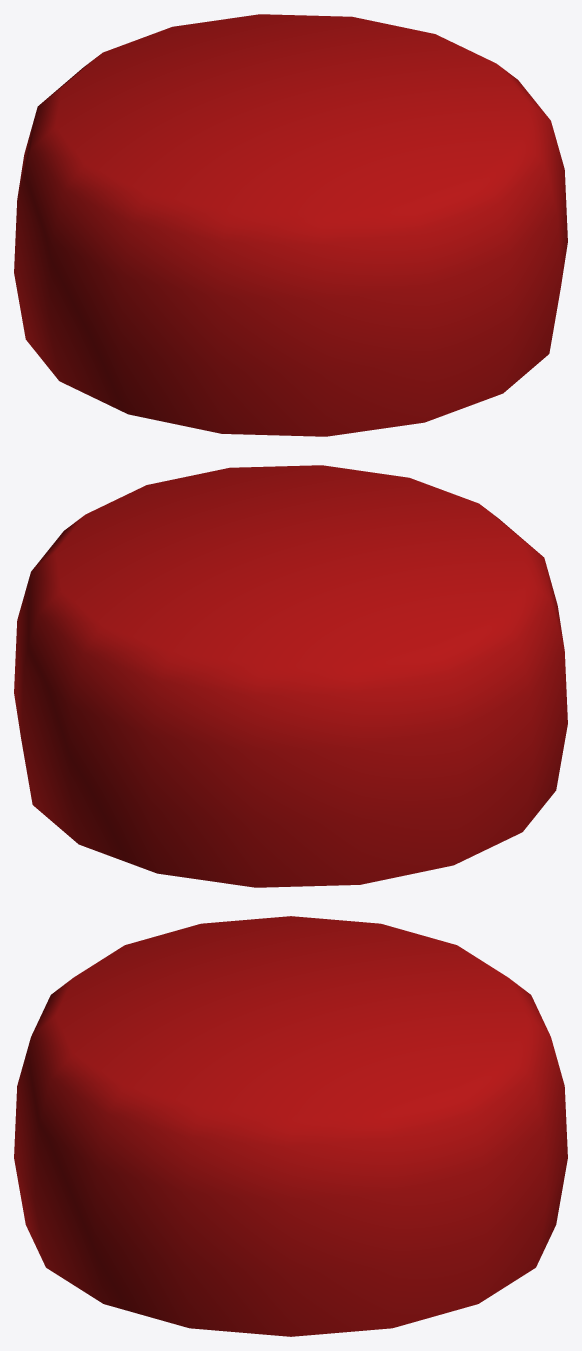
File: Tapa_04.fbx
3 views of the same model, one above another, from view 1: azimuth 30°, elevation 25°; view 2: azimuth 150°, elevation 25°; view 3: azimuth 270°, elevation 25° (orthographic).
Parts seen in each view (by area): view 1: Tapa_04; view 2: Tapa_04; view 3: Tapa_04.
Part boxes in pixels (x1=…): Tapa_04: x1=14, y1=14, x2=567, y2=436; Tapa_04: x1=14, y1=465, x2=567, y2=887; Tapa_04: x1=14, y1=916, x2=567, y2=1336.
Size of the model in its own units: 9.59 by 4.03 by 9.59.
